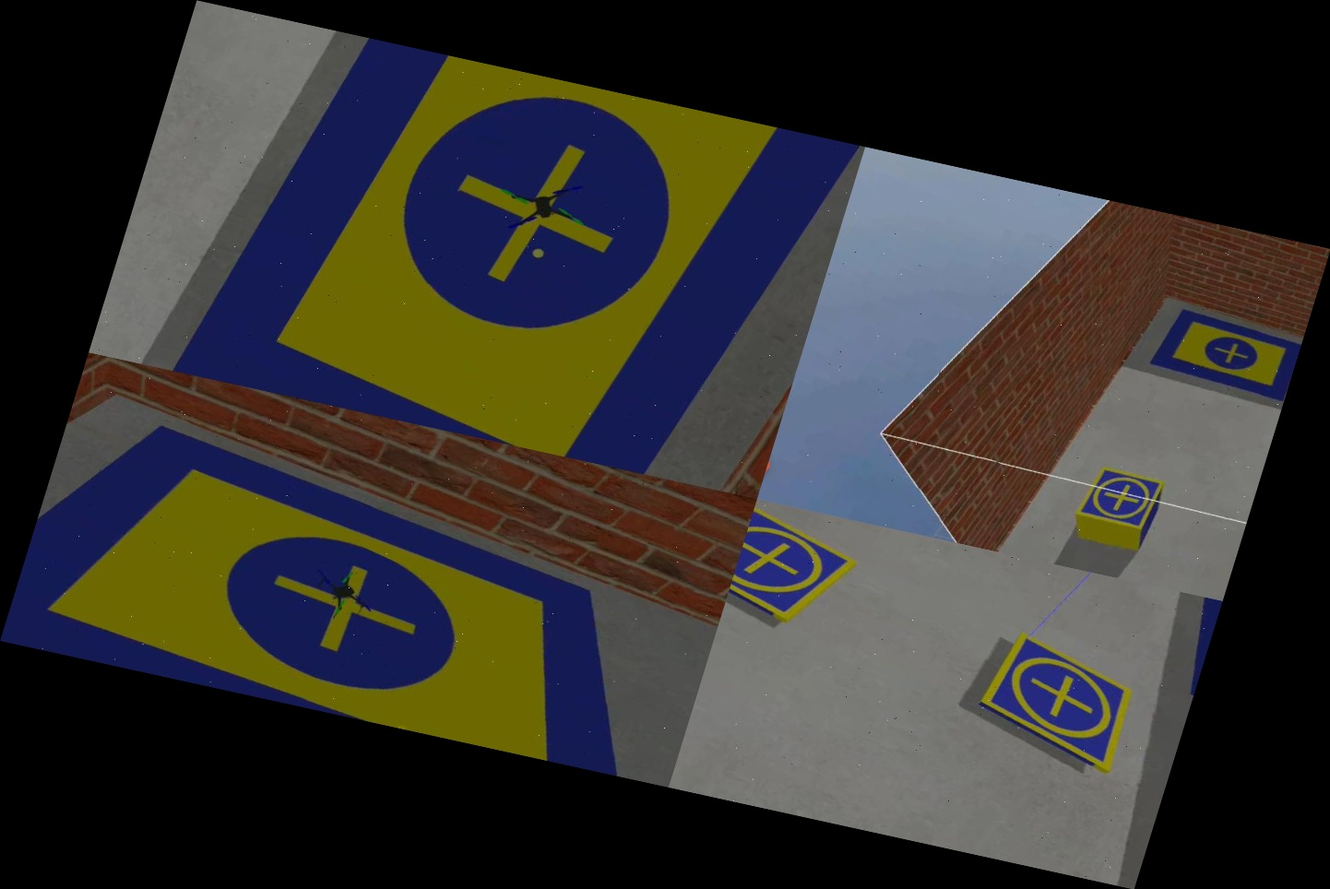large_base: (149, 14, 865, 499), (0, 352, 756, 787), (1140, 290, 1308, 421)
small_base: (956, 622, 1171, 784), (720, 499, 873, 644), (1070, 456, 1175, 547)
